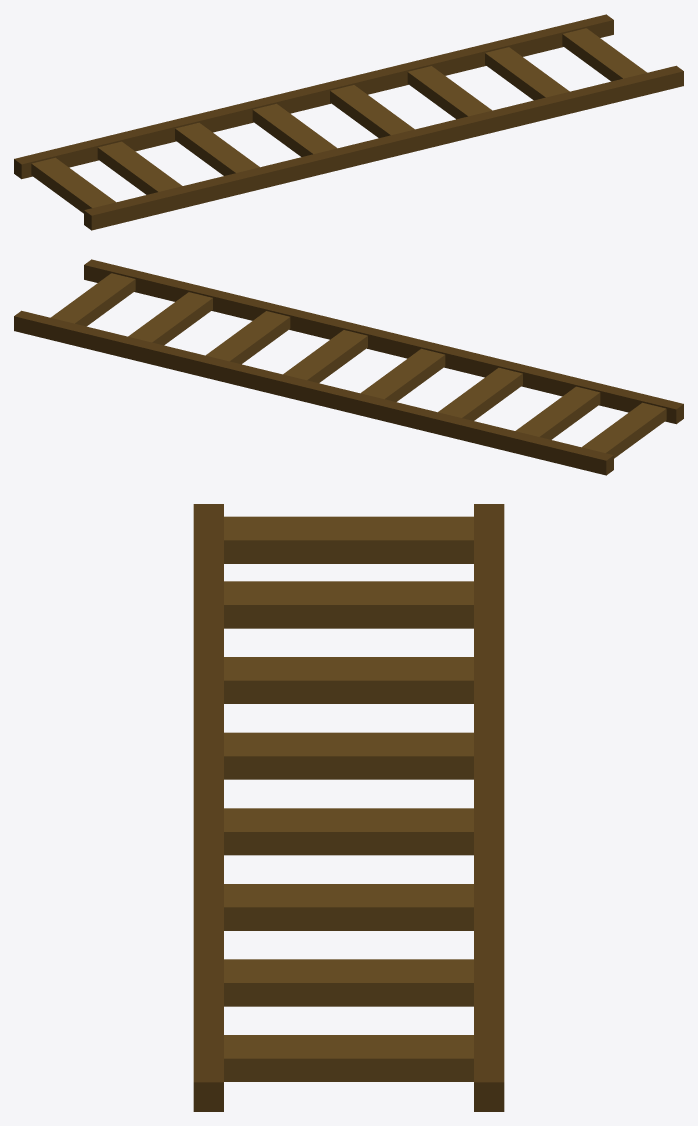
File: mesh_ladder.fbx
3 renders of one model, top to bottom at view 1: azimuth 30°, elevation 25°; view 2: azimuth 150°, elevation 25°; view 3: azimuth 270°, elevation 25°, orthographic. The views are drawn at different scales.
Parts seen in each view (by area): view 1: ladder; view 2: ladder; view 3: ladder.
Part boxes in pixels (x1=…): ladder: x1=14, y1=14, x2=683, y2=230; ladder: x1=14, y1=259, x2=683, y2=475; ladder: x1=193, y1=504, x2=504, y2=1111.
Bounding box in the file's own units: 450 × 10.75 × 102.
1 material, 1 textured.
